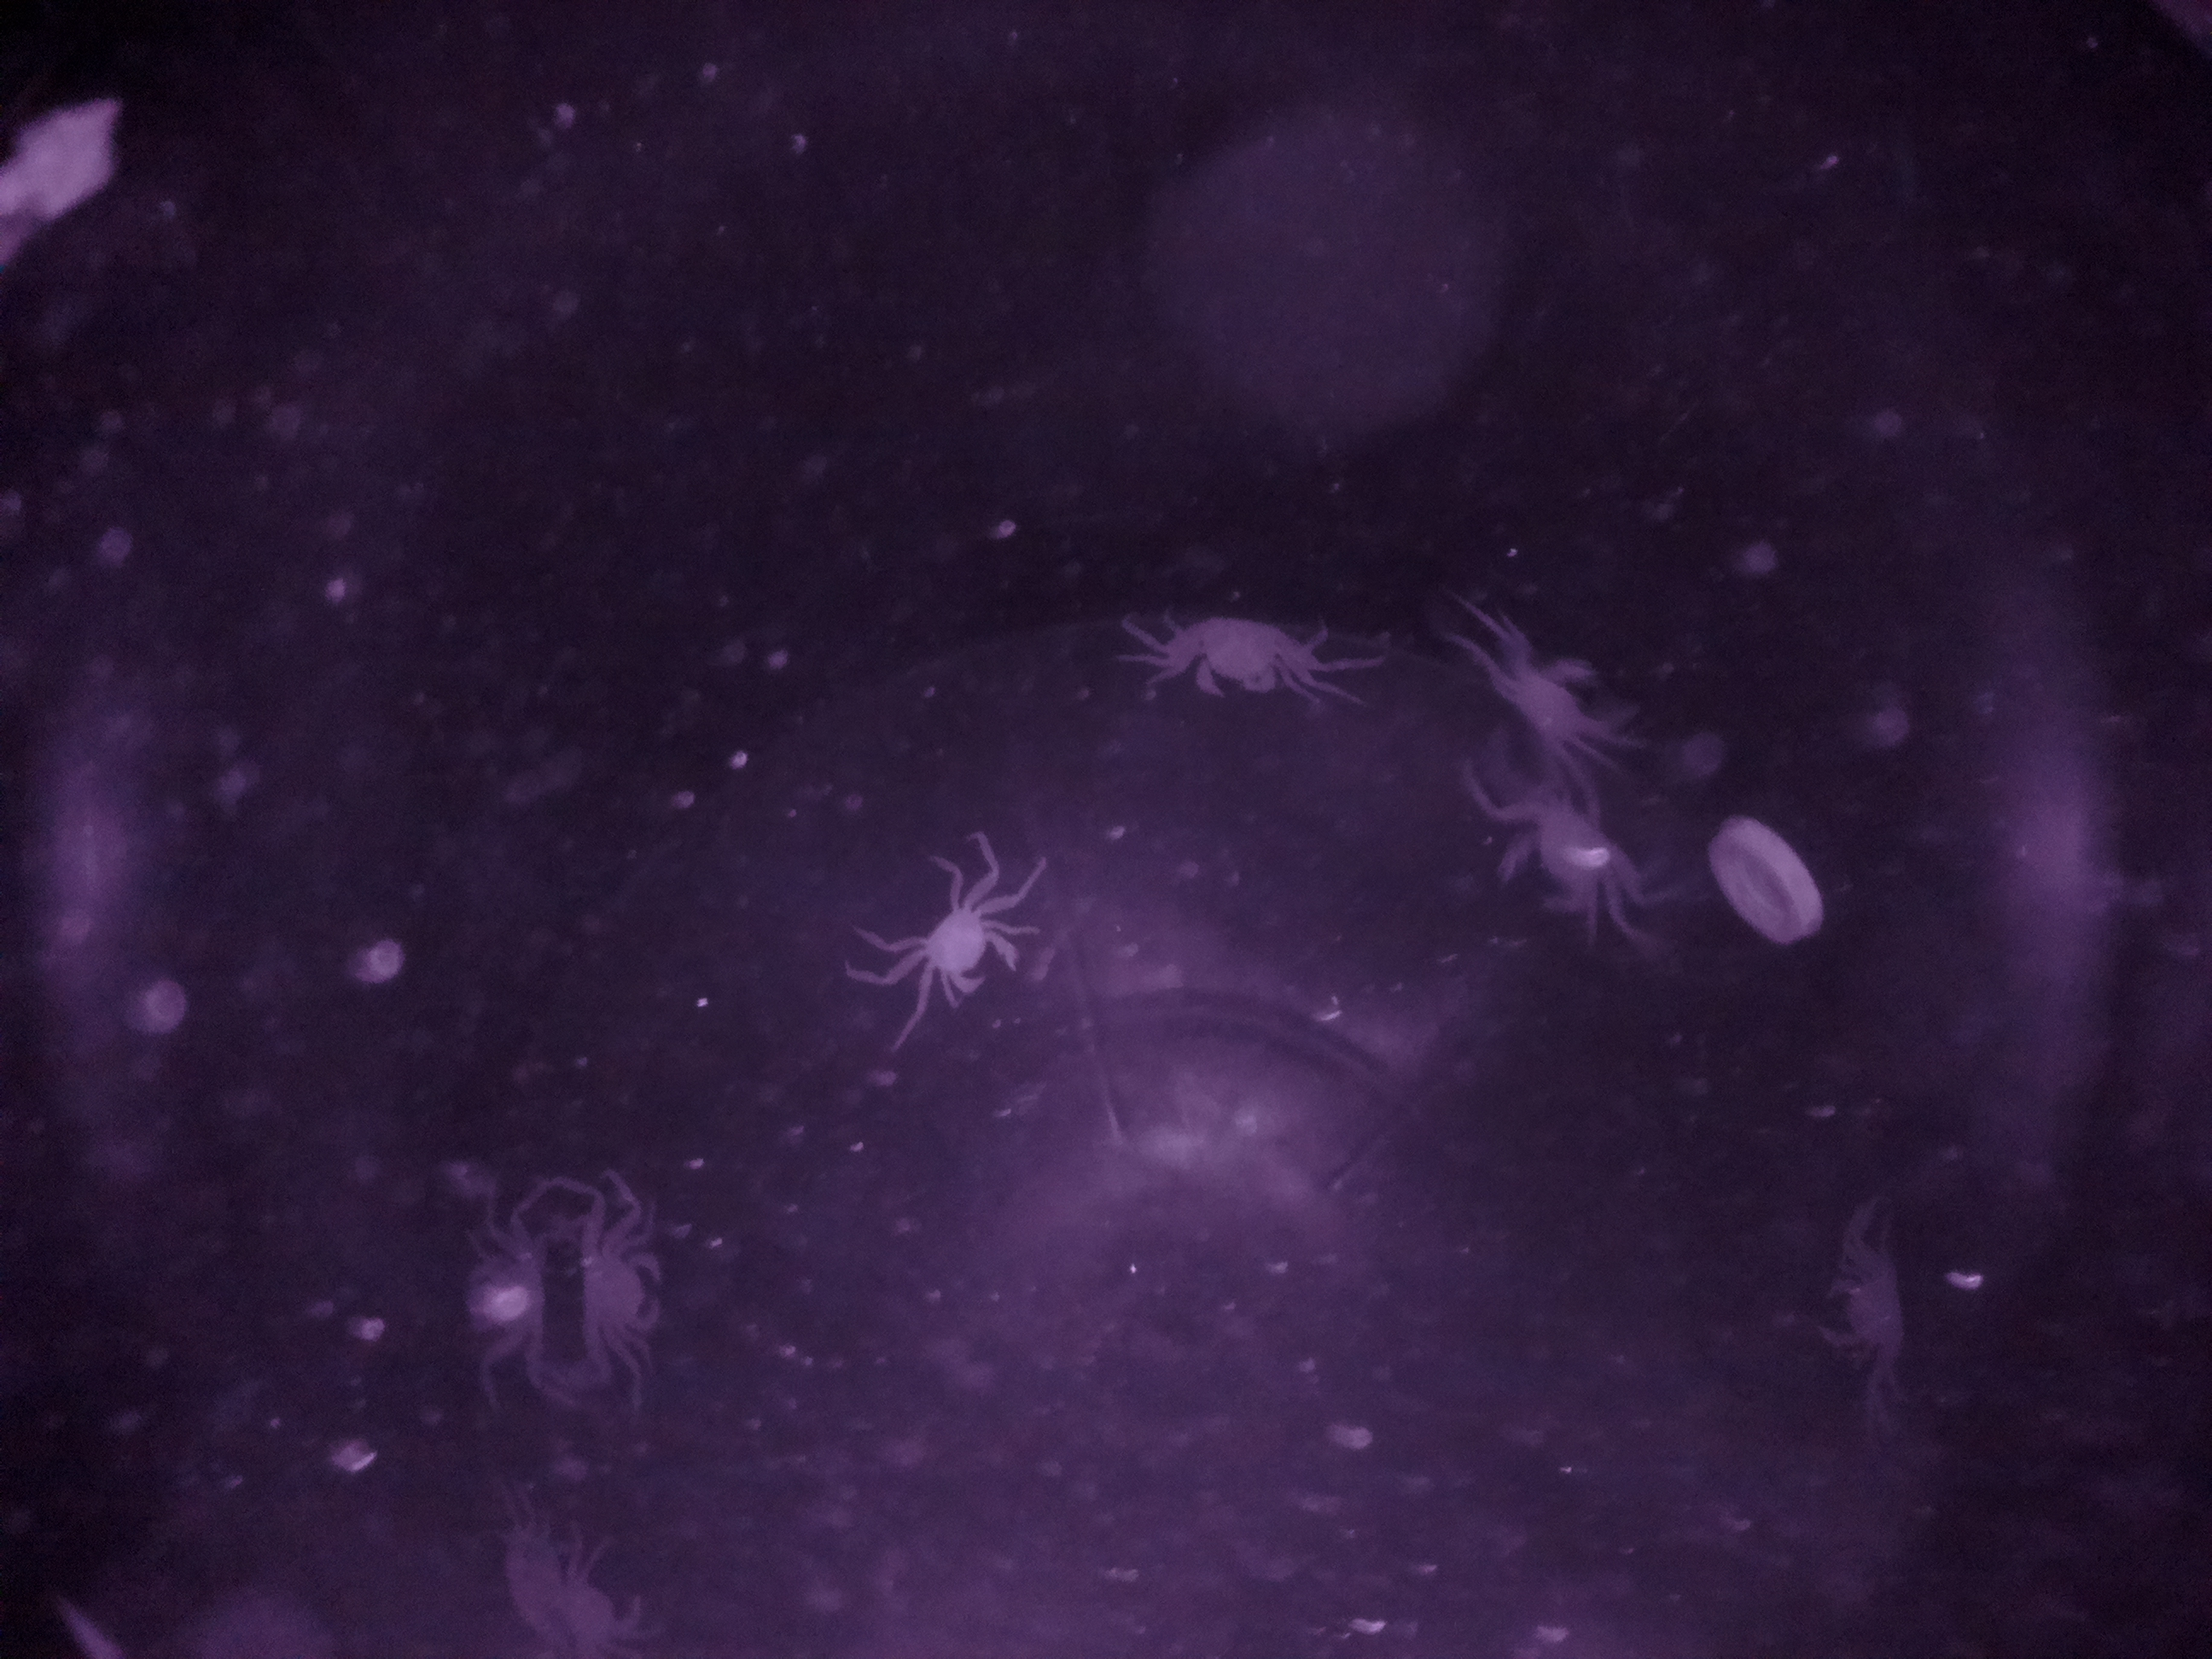Crab: (1129, 591, 1338, 734), (561, 1194, 697, 1377), (885, 873, 1050, 1016)
